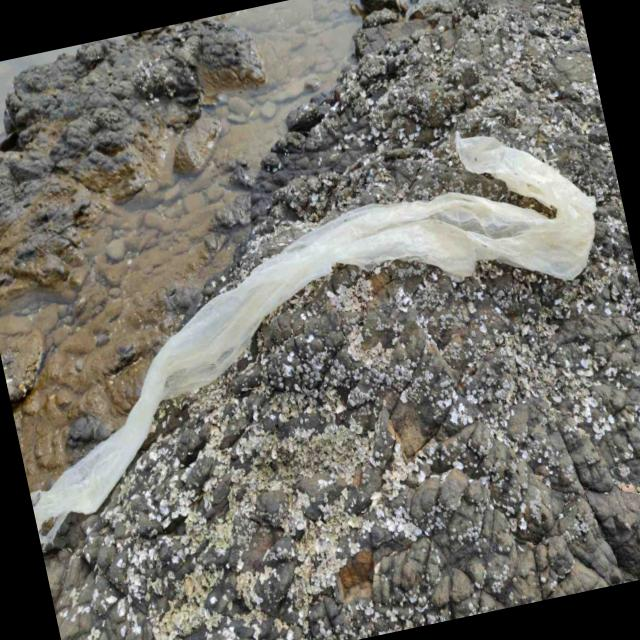nhua: (33, 133, 596, 549)
